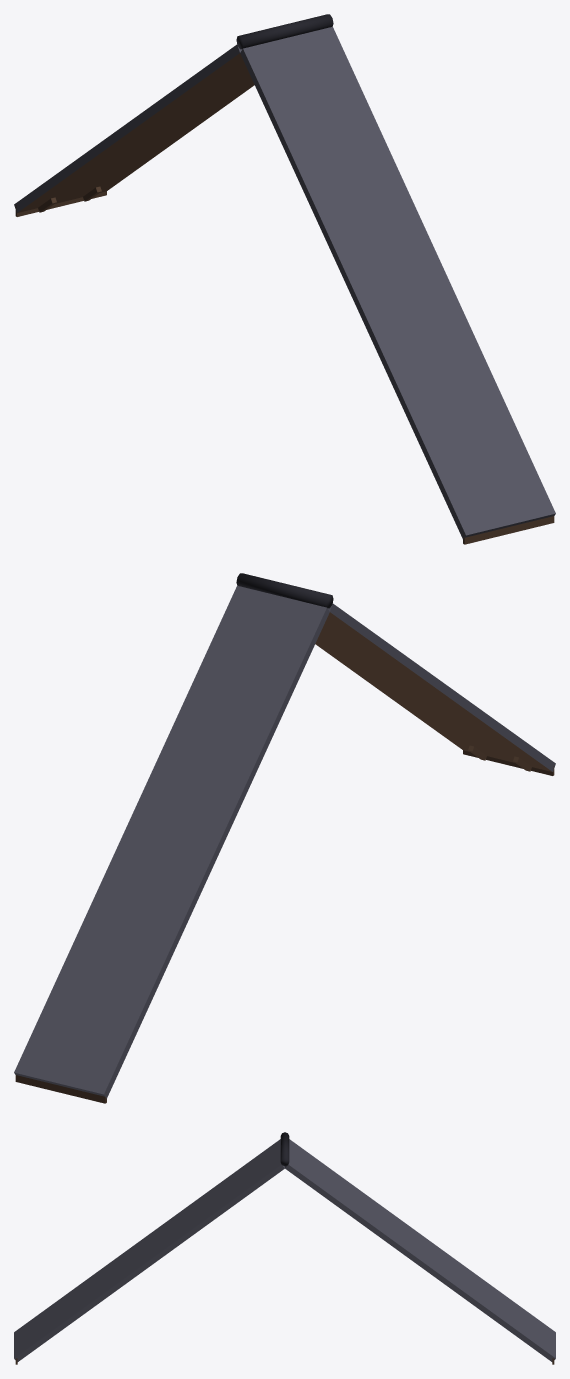
File: kit_stone_slate_w8.glb
3 views of the same model, one above another, from view 1: azimuth 30°, elevation 25°; view 2: azimuth 150°, elevation 25°; view 3: azimuth 270°, elevation 25° (orthographic). The views are drawn at different scales.
Parts seen in each view (by area): view 1: kit_stone_slate_w8; view 2: kit_stone_slate_w8; view 3: kit_stone_slate_w8.
Part boxes in pixels (x1,y1,x2,y2): kit_stone_slate_w8: (14, 14, 555, 544); kit_stone_slate_w8: (14, 573, 555, 1103); kit_stone_slate_w8: (14, 1132, 555, 1364).
Bounding box in the file's own units: 1 × 3.66 × 8.71.
